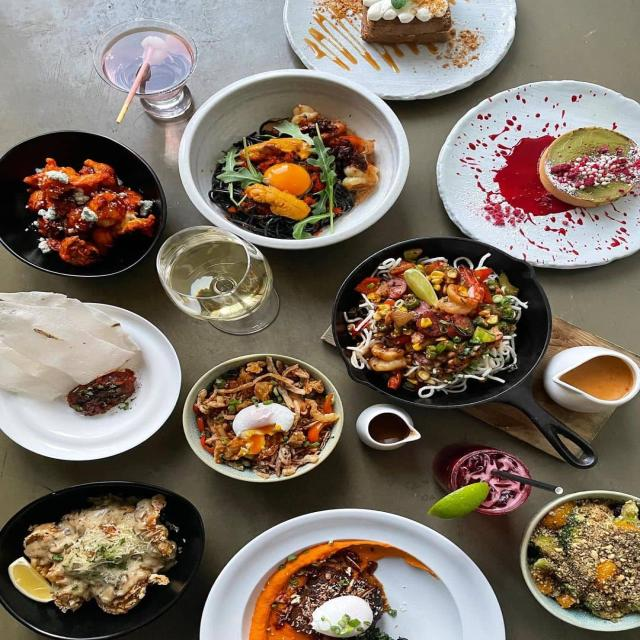do ngot: (423, 110, 640, 239), (182, 100, 369, 222), (239, 551, 429, 640), (536, 505, 640, 628), (347, 0, 526, 68)
do xao: (15, 491, 168, 636), (0, 148, 126, 254)
rau thap cam: (372, 278, 538, 388), (202, 356, 325, 469)
